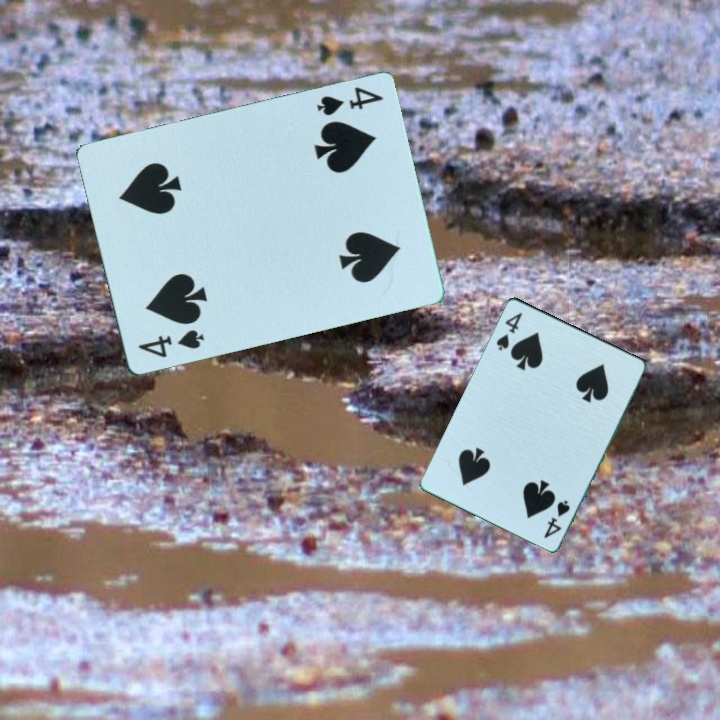4s: (134, 326, 207, 362), (313, 84, 386, 119), (540, 496, 573, 541), (492, 309, 525, 353)
